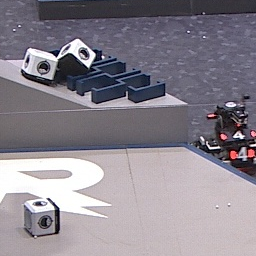Red: (219, 129, 256, 143), (229, 146, 256, 160)
Robot: (187, 97, 256, 169)
